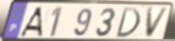1: (49, 6, 63, 39)
3: (95, 7, 118, 39)
9: (73, 8, 93, 37)
A: (19, 6, 44, 38)
D: (114, 7, 142, 39)
V: (145, 7, 170, 39)
